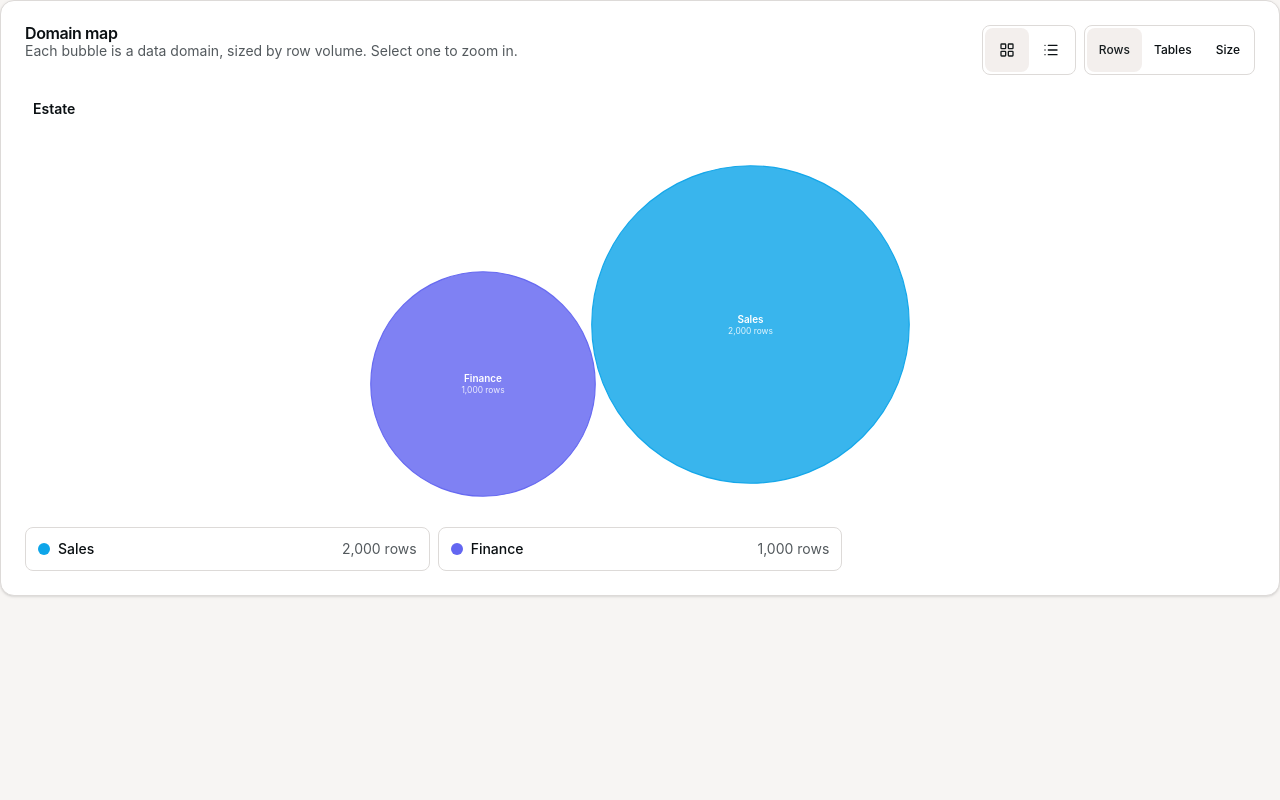
Scenario: Domain Explorer — list rows keyboard access › exposes list rows as focusable buttons that drill on Enter
Click the button named "List view": (1051, 50) x1=1029 y1=28 x2=1073 y2=72
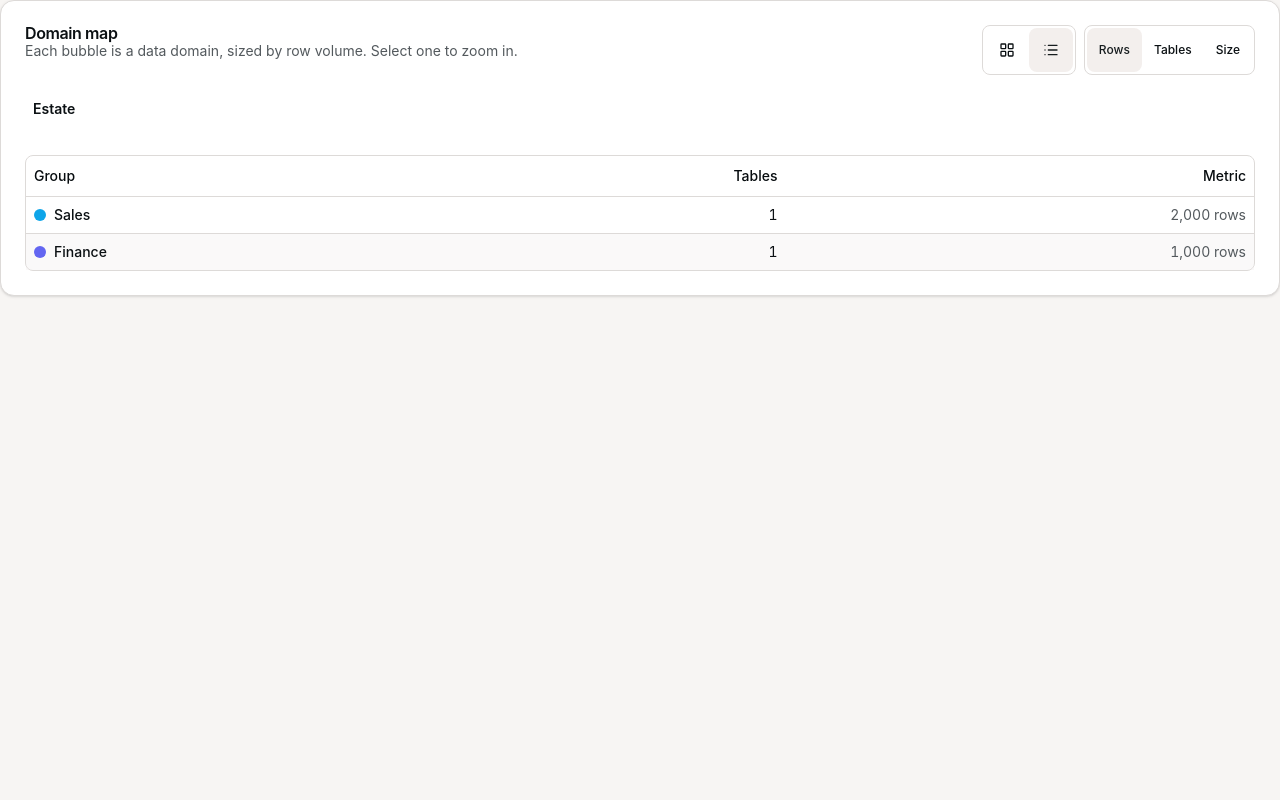
Expected: the button "Sales 1 2,000 rows" is shown
Press Enter in the button "Sales 1 2,000 rows", box x1=26 y1=196 x2=1254 y2=233
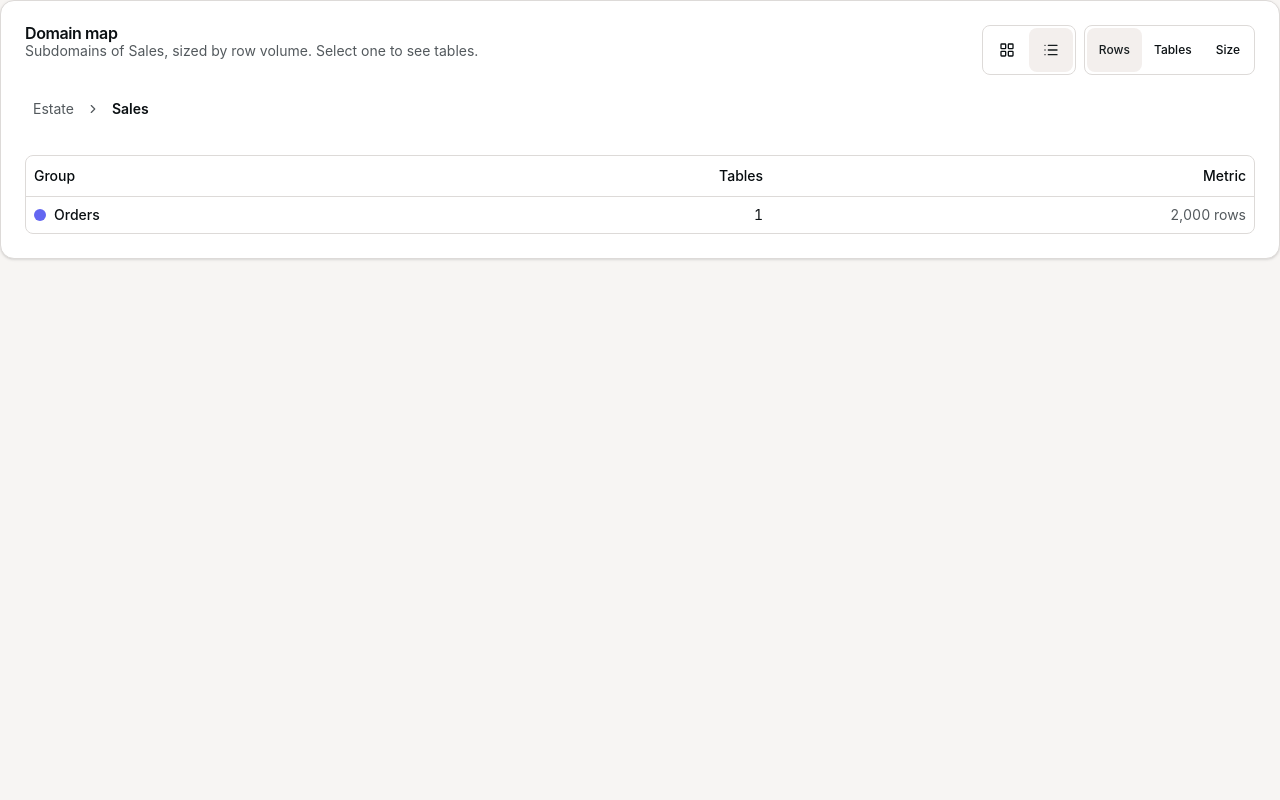
Expected: the text "Subdomains of" is shown, x1=25 y1=42 x2=478 y2=59
